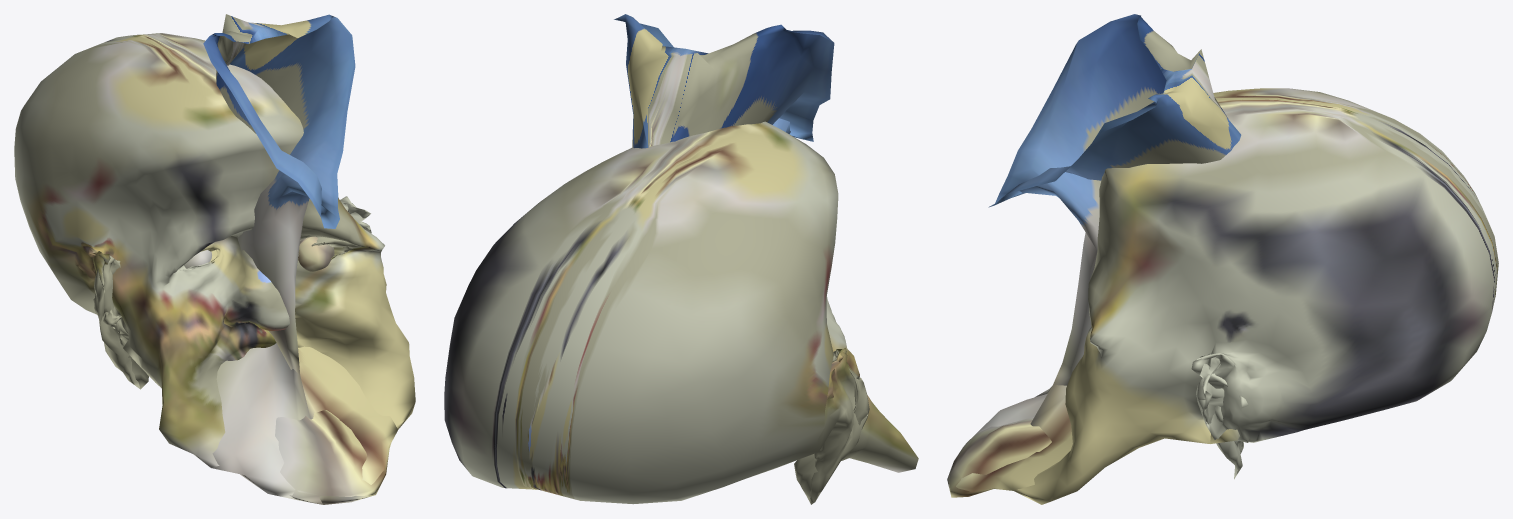
The model's file is generated_head.obj.
3 views of the same model, side by side, from view 1: azimuth 30°, elevation 25°; view 2: azimuth 150°, elevation 25°; view 3: azimuth 270°, elevation 25° (orthographic). The views are drawn at different scales.
Size of the model in its own units: 0.4805 by 0.661 by 0.7441.
Materials: 1 (1 with a texture image).
